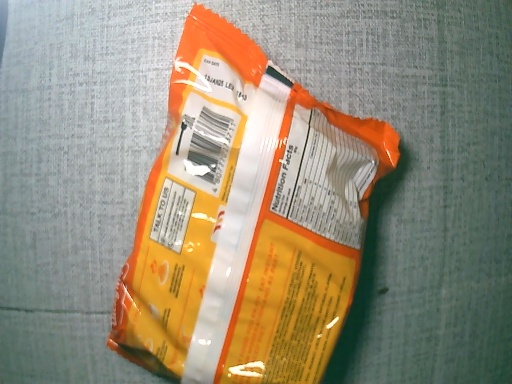plastic: (113, 3, 401, 384)
